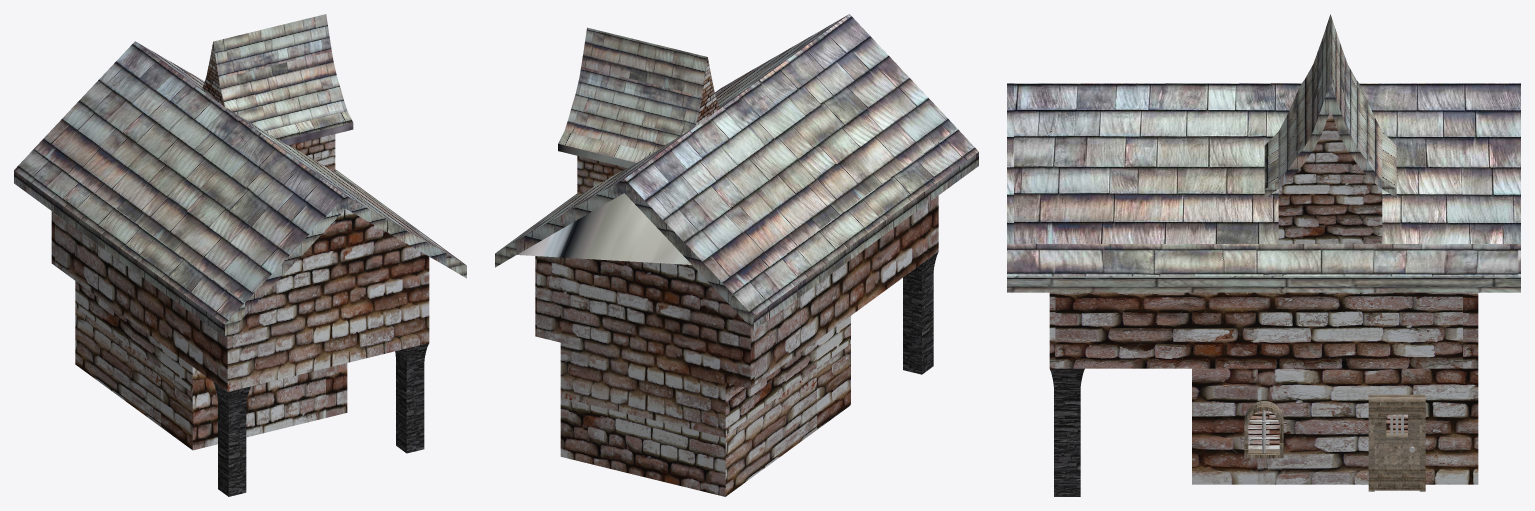
Rendered from guardhouse.fbx.
3 views of the same model, side by side, from view 1: azimuth 30°, elevation 25°; view 2: azimuth 150°, elevation 25°; view 3: azimuth 270°, elevation 25° (orthographic). The views are drawn at different scales.
Visible parts, largest first — view 1: GuardHouse; view 2: GuardHouse; view 3: GuardHouse, Door, Window.
Boxes of the visible parts, x1=… form: GuardHouse: x1=14, y1=14, x2=466, y2=496; GuardHouse: x1=495, y1=14, x2=978, y2=496; GuardHouse: x1=1007, y1=14, x2=1520, y2=496; Door: x1=1368, y1=394, x2=1425, y2=491; Window: x1=1244, y1=401, x2=1283, y2=458.
Bounding box in the file's own units: 240 × 330 × 362.
